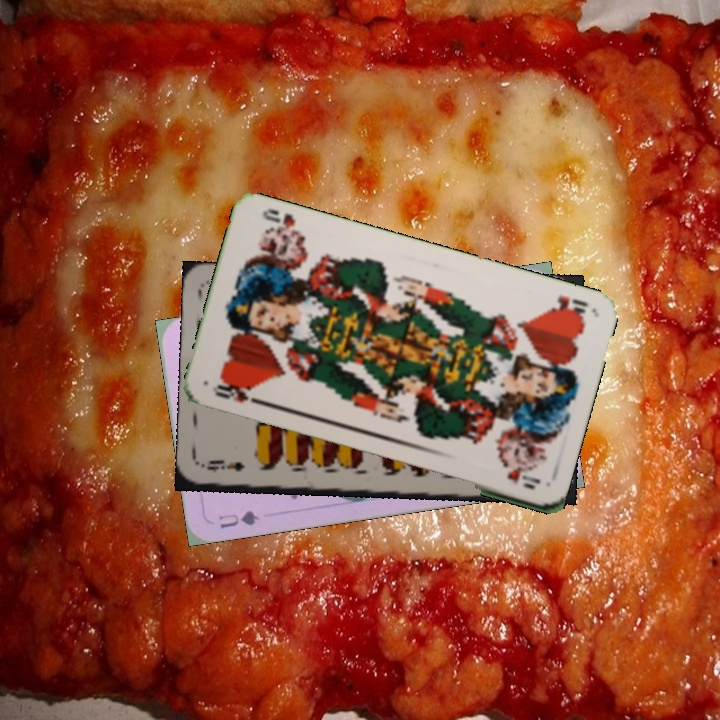E9: (203, 456, 247, 475)
GU: (214, 506, 262, 531)
HO: (543, 291, 591, 322), (209, 382, 265, 407)
